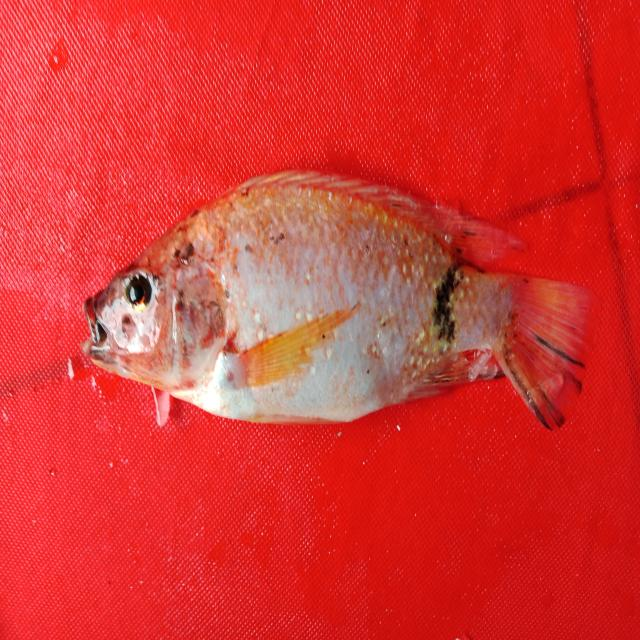ikan: (66, 153, 596, 441)
